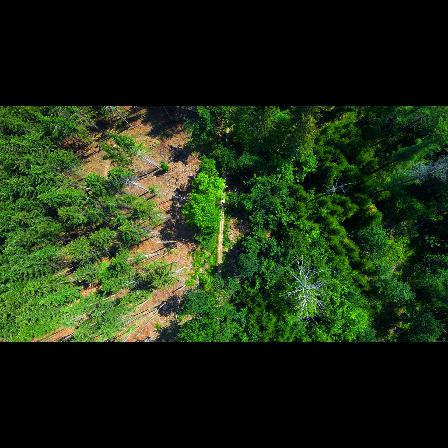Dead: (284, 261, 338, 325), (396, 155, 448, 184), (322, 173, 363, 197)
